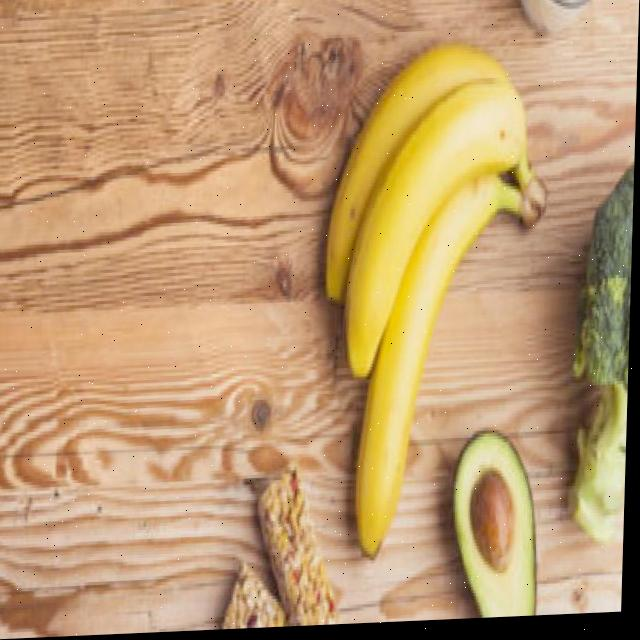banana: (313, 32, 554, 574)
